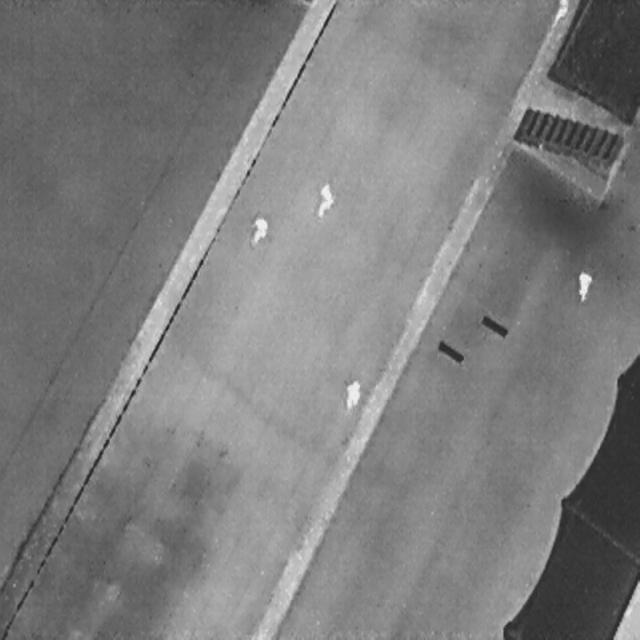Person: (310, 178, 337, 222), (571, 265, 594, 305), (341, 375, 363, 413), (246, 212, 269, 246)
